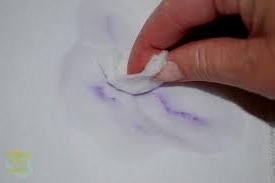ink: (164, 102, 200, 124), (88, 85, 112, 104)
